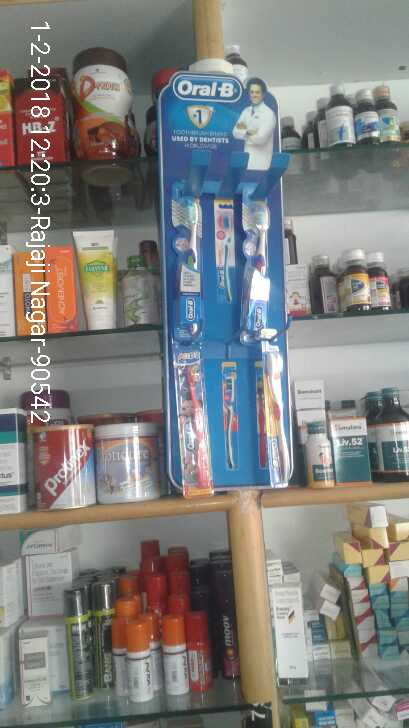oralb: (168, 196, 221, 343), (170, 357, 225, 493), (253, 337, 299, 489), (233, 187, 275, 341)
